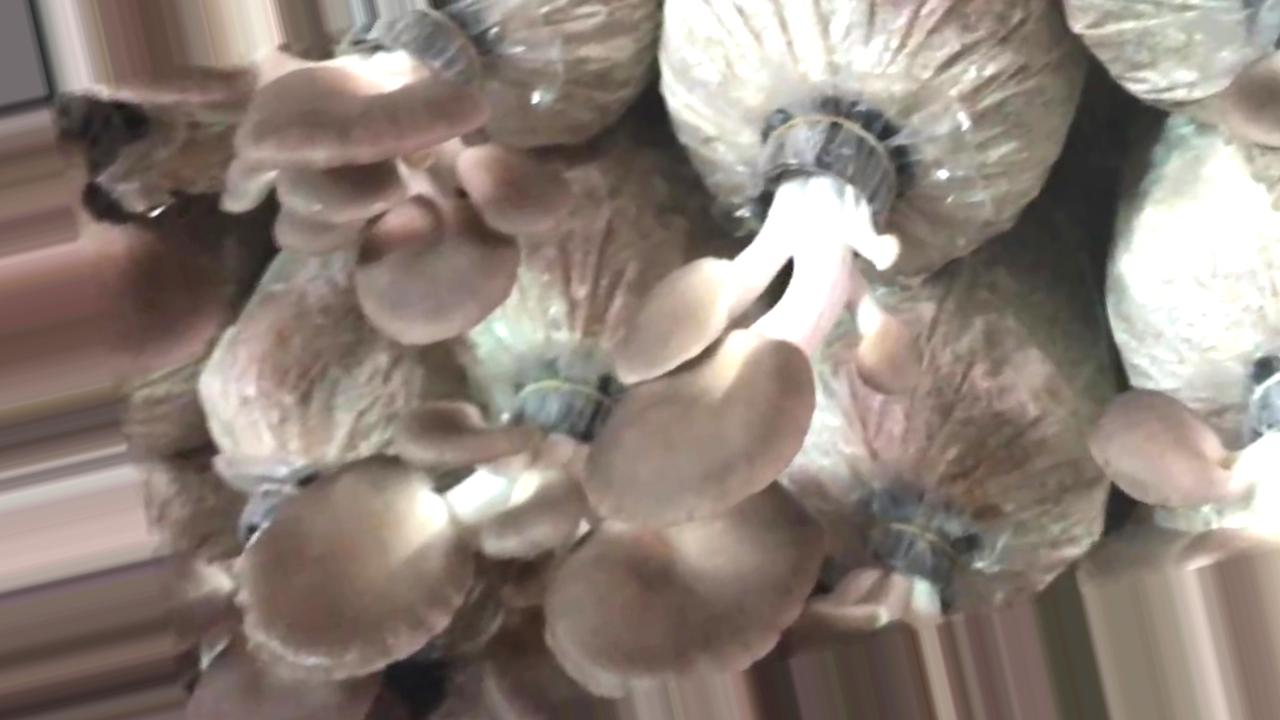nam: (236, 385, 831, 700), (585, 118, 930, 520), (218, 7, 580, 346), (1075, 384, 1278, 720)
